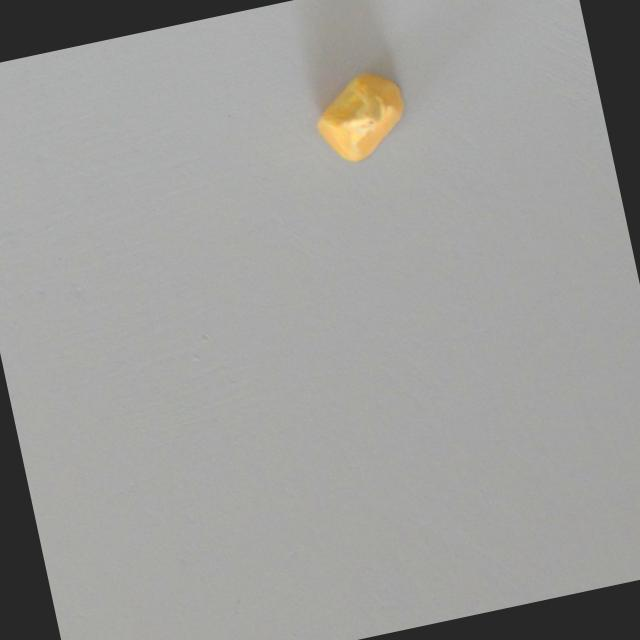entero: (297, 54, 423, 172)
